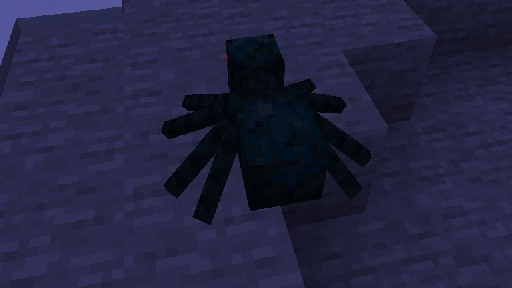cave_spider: (160, 33, 371, 224)
